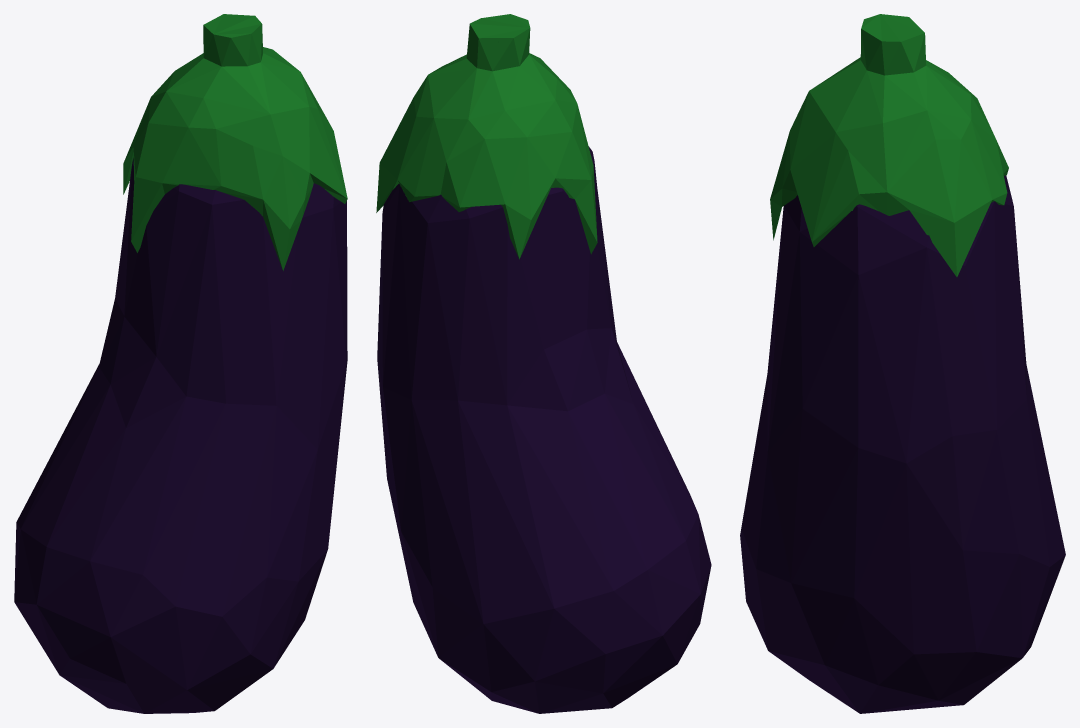
File: Eggplant.FBX
The picture shows the model from 3 angles, left to right: view 1: azimuth 30°, elevation 25°; view 2: azimuth 150°, elevation 25°; view 3: azimuth 270°, elevation 25°; orthographic projection. The views are drawn at different scales.
Parts seen in each view (by area): view 1: Eggplant, Tail; view 2: Eggplant, Tail; view 3: Eggplant, Tail.
Boxes of the visible parts, left/top/right/bottom form: Eggplant: left=14, top=158, right=347, bottom=713; Tail: left=123, top=14, right=347, bottom=270; Eggplant: left=377, top=146, right=711, bottom=713; Tail: left=376, top=14, right=597, bottom=259; Eggplant: left=740, top=175, right=1065, bottom=713; Tail: left=770, top=14, right=1008, bottom=276.
Bounding box in the file's own units: 83.03 × 174 × 72.68.
